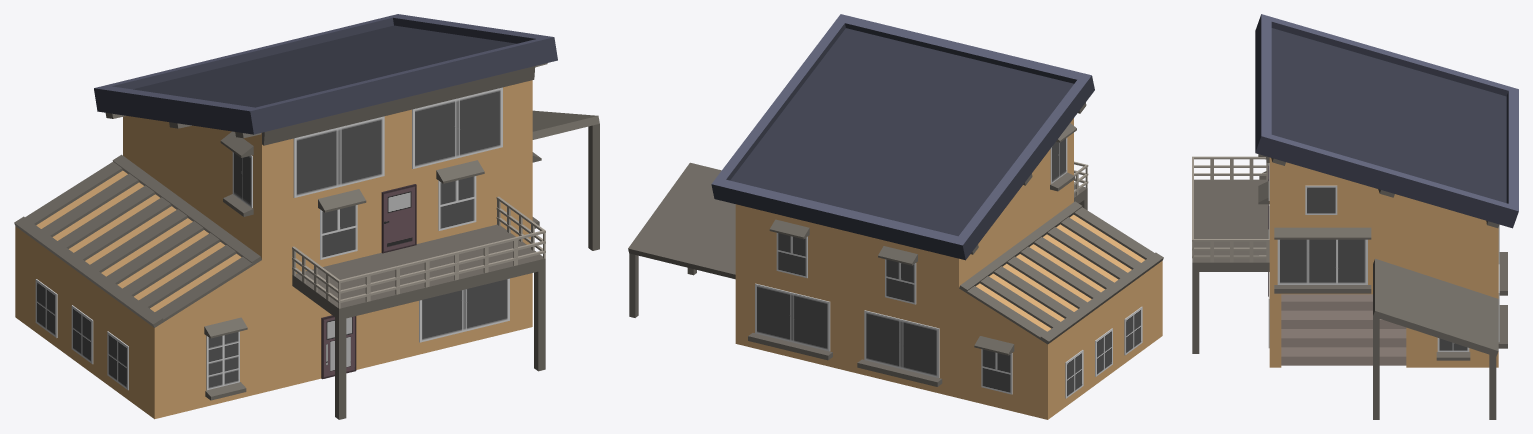
Rendered from house09_color02.fbx.
3 views of the same model, side by side, from view 1: azimuth 30°, elevation 25°; view 2: azimuth 150°, elevation 25°; view 3: azimuth 270°, elevation 25° (orthographic). The views are drawn at different scales.
Visible parts, largest first — view 1: Cube.414, Cube.415; view 2: Cube.414, Cube.415; view 3: Cube.414, Cube.415.
Boxes of the visible parts, <box> form: Cube.414: <box>14,14,557,419</box>; Cube.415: <box>532,110,599,250</box>; Cube.414: <box>711,14,1163,419</box>; Cube.415: <box>628,162,735,317</box>; Cube.414: <box>1192,14,1518,367</box>; Cube.415: <box>1373,258,1498,419</box>.
Size of the model in its own units: 1891 by 1027 by 1277.
